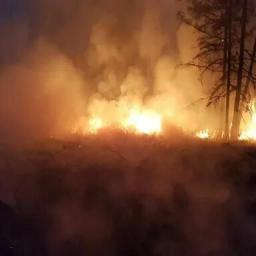Heavy smoke: (1, 0, 221, 166)
Medium fire: (52, 58, 256, 142)
